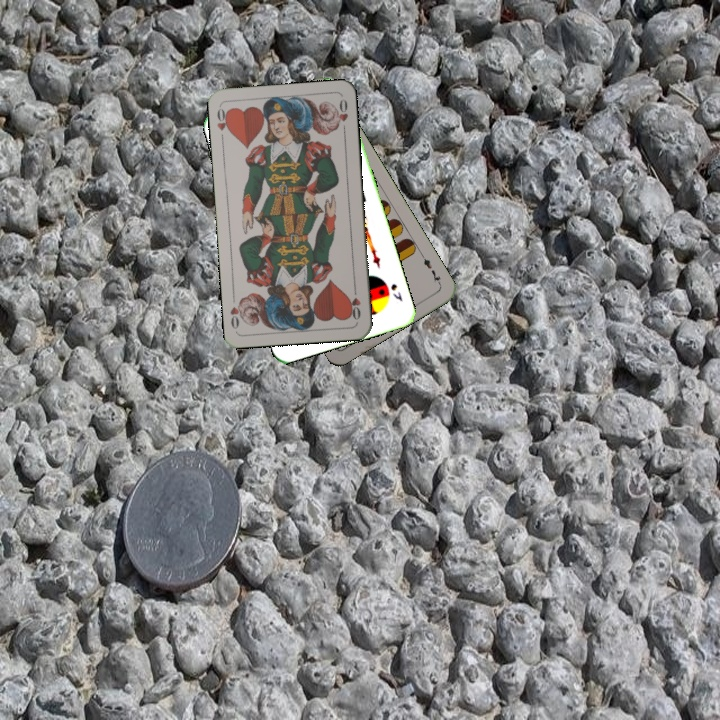E7: (418, 251, 444, 288)
HO: (213, 104, 233, 144), (346, 283, 363, 323)
SK: (387, 279, 405, 304)
